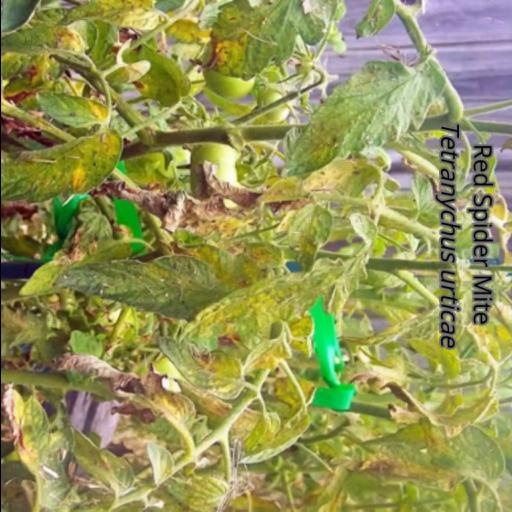Spider Mites: (282, 59, 446, 179), (174, 258, 348, 345), (0, 131, 126, 205), (156, 337, 244, 399), (35, 91, 109, 131)
